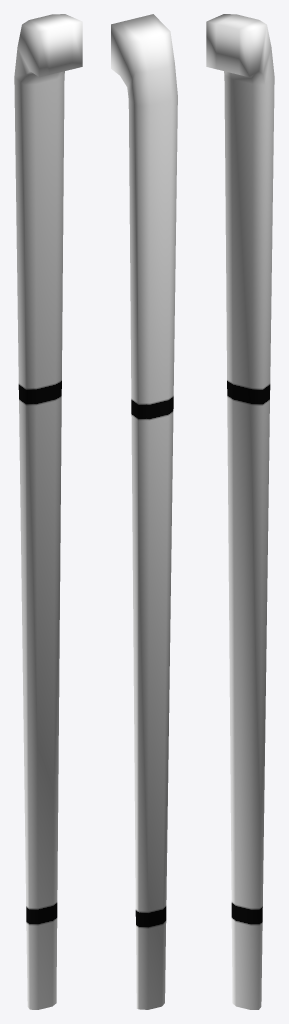
The model's file is Waterfall.fbx.
3 renders of one model, left to right at view 1: azimuth 30°, elevation 25°; view 2: azimuth 210°, elevation 25°; view 3: azimuth 330°, elevation 25°, orthographic.
Visible parts, largest first — view 1: WaterFall; view 2: WaterFall; view 3: WaterFall.
Part boxes in pixels (box(x1,y1,x2,y2)): WaterFall: box(14, 14, 82, 1009); WaterFall: box(111, 14, 177, 1009); WaterFall: box(206, 14, 274, 1009).
Size of the model in its own units: 200 by 4384 by 234.
